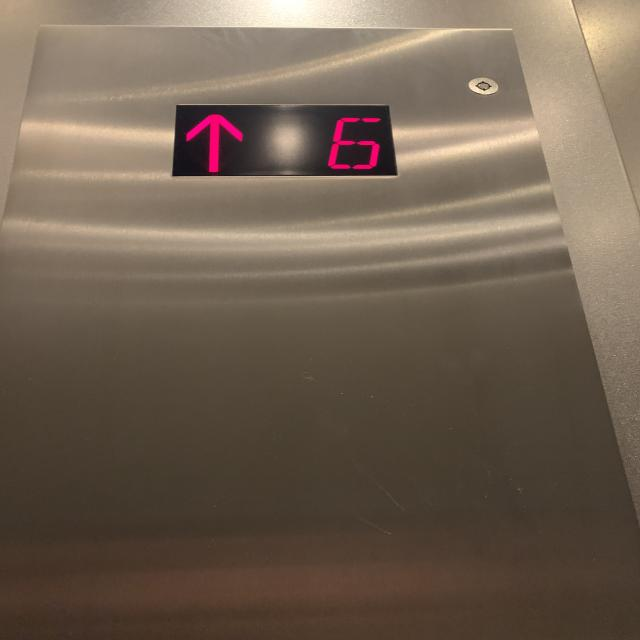box: (165, 93, 403, 180)
